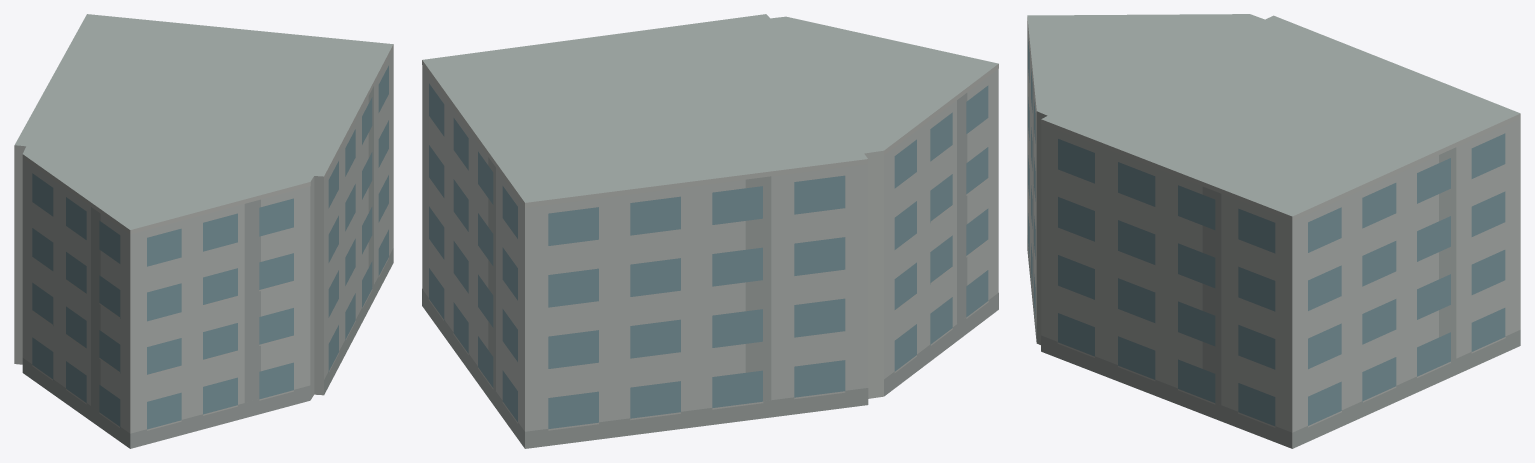
File: survey-upis-32522155.glb
3 views of the same model, side by side, from view 1: azimuth 30°, elevation 25°; view 2: azimuth 150°, elevation 25°; view 3: azimuth 270°, elevation 25° (orthographic). The views are drawn at different scales.
Visible parts, largest first — view 1: survey-upis-32522155.tmp; view 2: survey-upis-32522155.tmp; view 3: survey-upis-32522155.tmp.
Part boxes in pixels (x1,y1,x2,y2): survey-upis-32522155.tmp: [14, 14, 393, 448]; survey-upis-32522155.tmp: [422, 14, 998, 448]; survey-upis-32522155.tmp: [1027, 14, 1520, 448].
Size of the model in its own units: 22.81 by 12.2 by 23.49.
